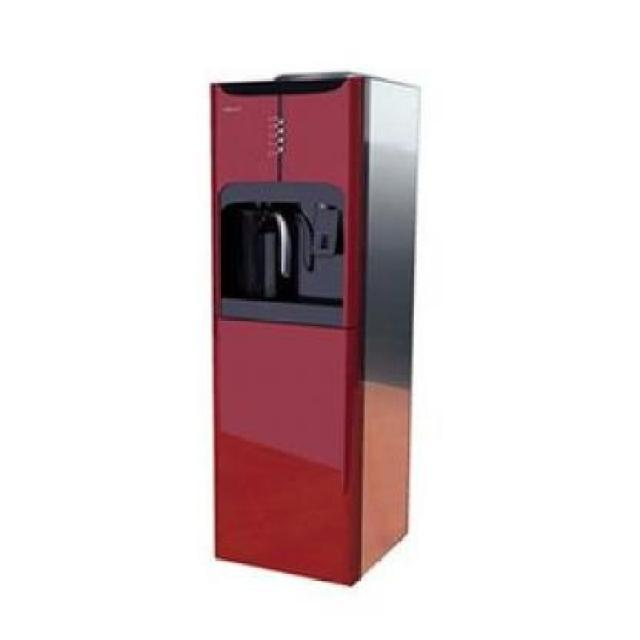cooler: (204, 67, 426, 596)
